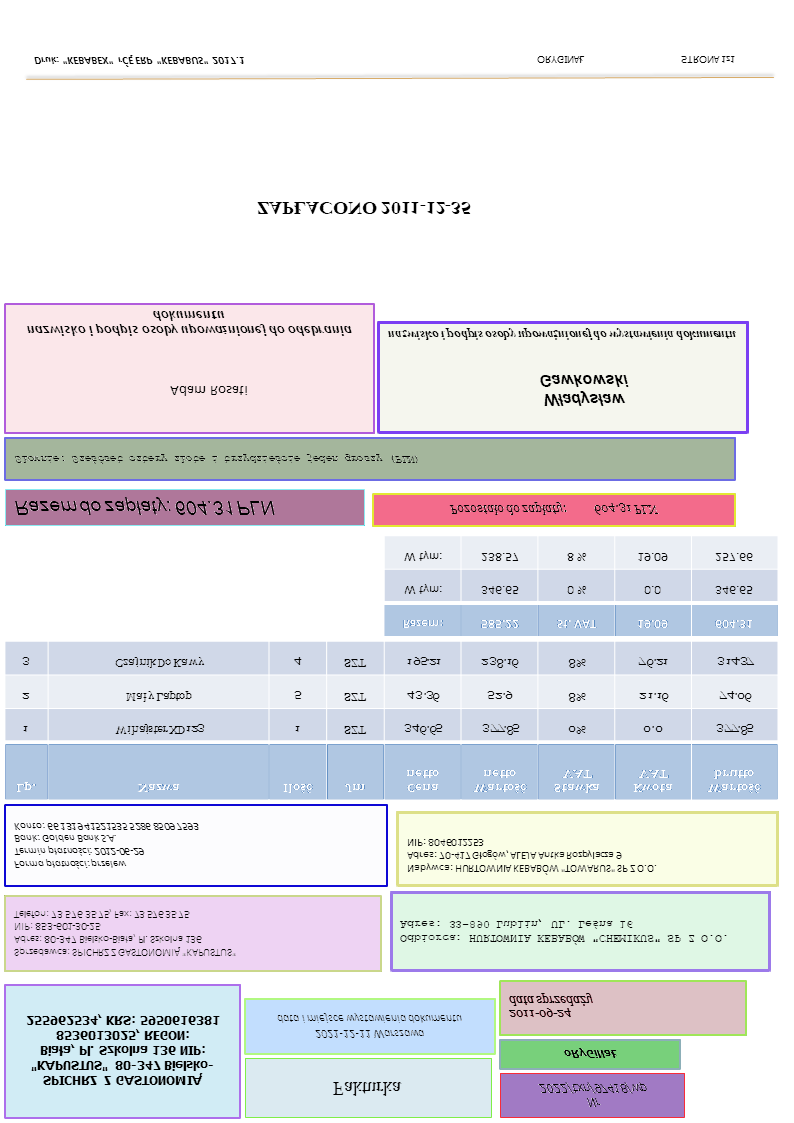Table: (4, 640, 778, 800), (384, 535, 778, 637)
TextBox: (23, 1013, 222, 1088), (12, 908, 238, 959), (398, 917, 730, 947), (404, 836, 659, 875), (23, 309, 353, 339), (12, 820, 201, 871), (385, 325, 738, 343), (10, 495, 280, 518), (12, 452, 422, 467), (272, 1011, 464, 1041), (254, 198, 475, 219), (446, 500, 660, 518), (534, 1078, 649, 1111), (538, 372, 630, 411), (31, 53, 247, 68), (506, 990, 595, 1019), (330, 1078, 403, 1098), (166, 383, 249, 398), (560, 1045, 619, 1062), (678, 52, 736, 65), (534, 53, 585, 66)
